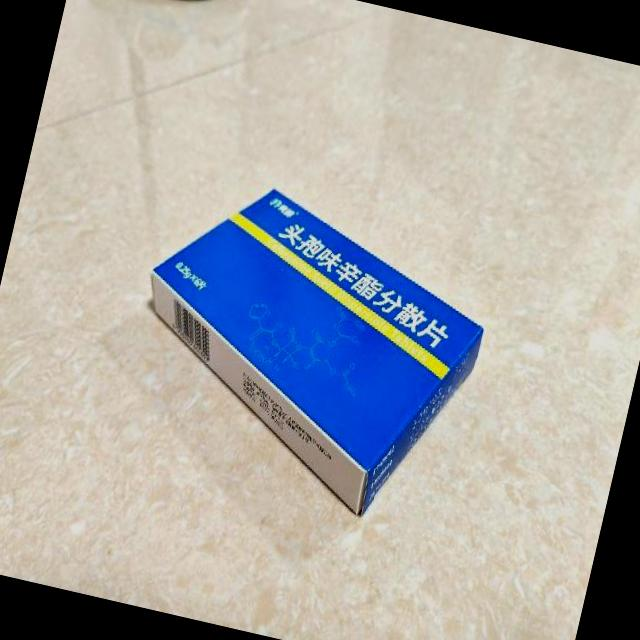box: (107, 165, 504, 537)
